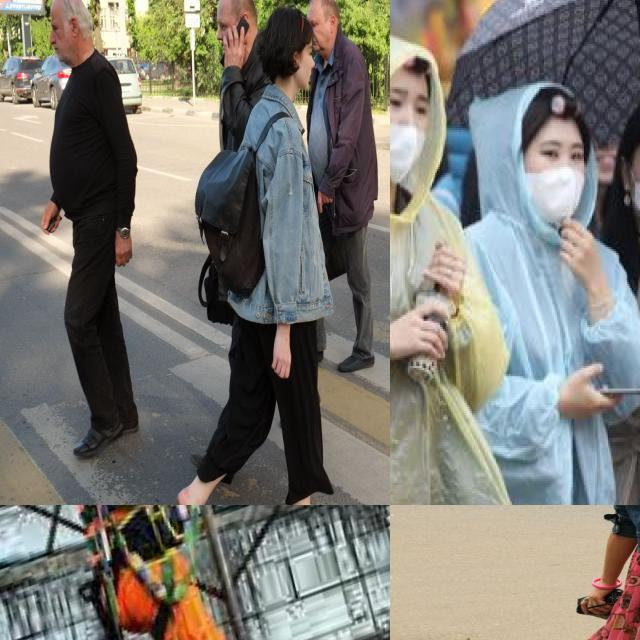Barefoots: (177, 488, 204, 505)
Harness: (80, 505, 125, 576)
face_mask: (523, 130, 589, 225), (390, 76, 432, 185)
hand_noglove: (395, 297, 453, 365), (558, 359, 615, 416), (424, 238, 467, 297), (557, 214, 597, 272)
head_nohelmet: (517, 87, 584, 138), (390, 29, 435, 78)
person: (452, 83, 640, 505), (390, 21, 484, 505), (598, 87, 640, 505)
